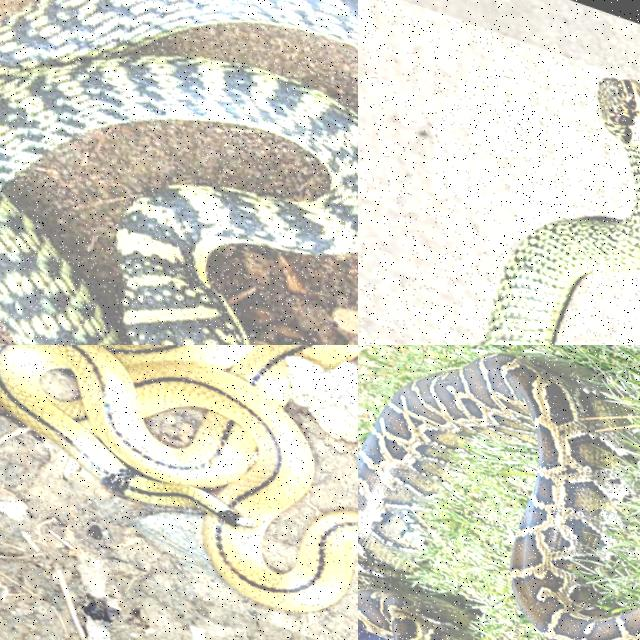Calliophis maculiceps: (0, 345, 357, 611)
Chrysopelea ornata: (0, 0, 357, 344), (481, 78, 639, 344)
Python bivittatus: (358, 352, 639, 639)
snake: (0, 0, 357, 344), (0, 345, 357, 611), (358, 352, 639, 639), (481, 78, 639, 344)
